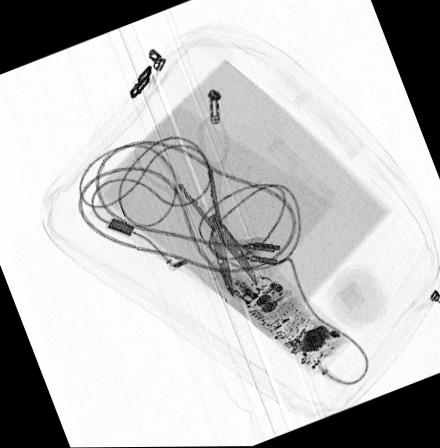Scissors: (131, 113, 258, 297)
